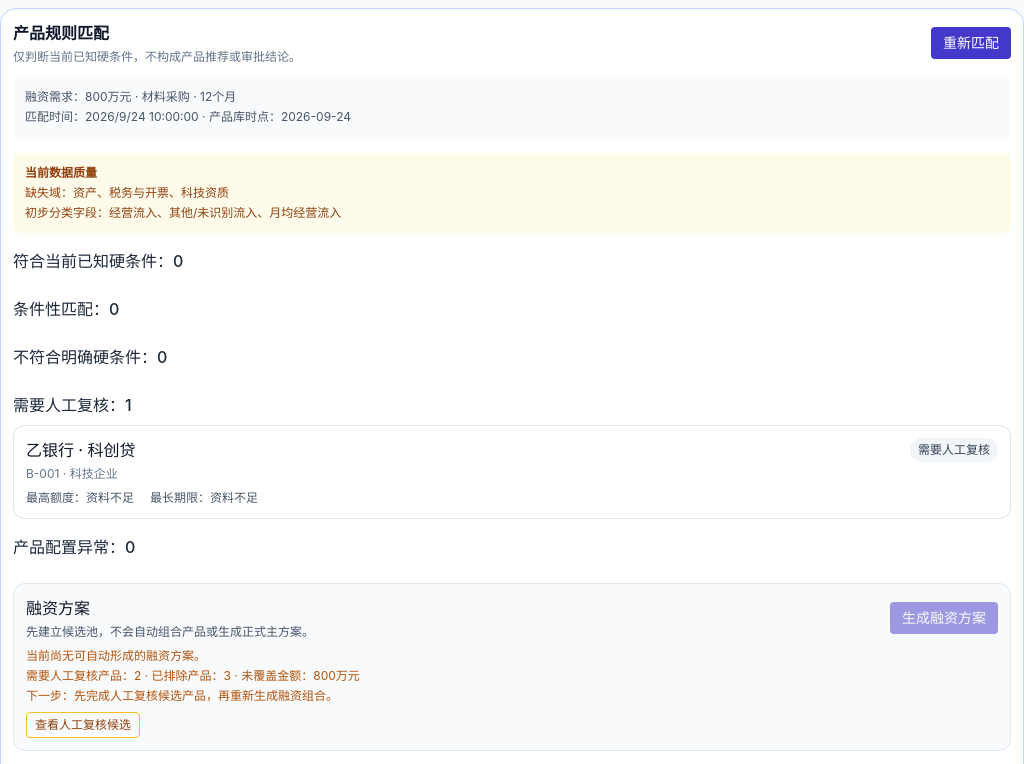
Test: ProductMatchingPanel › shows manual review candidates and records an explicit conditional override
The width and height of the screenshot is (1024, 764).
Click the button "查看人工复核候选" at [83, 725], box [26,712,140,738]
(page scrolled)
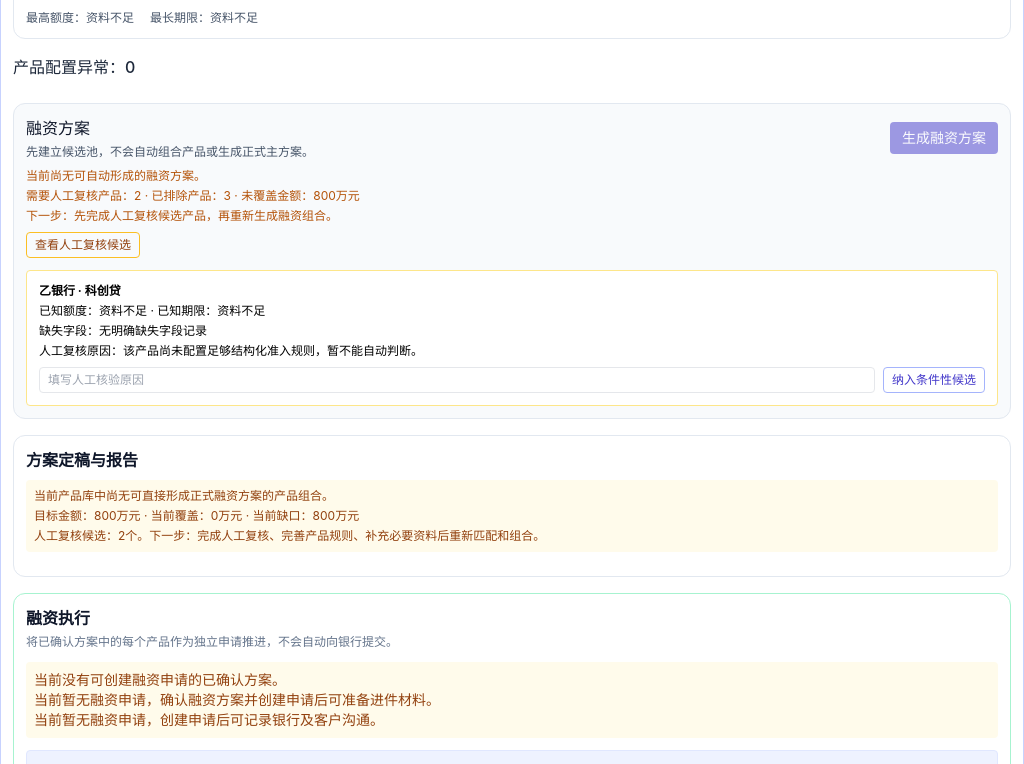
Type "已核验额度与期限边界" into the field named "科创贷人工纳入原因" at [457, 380], box [39,367,875,393]
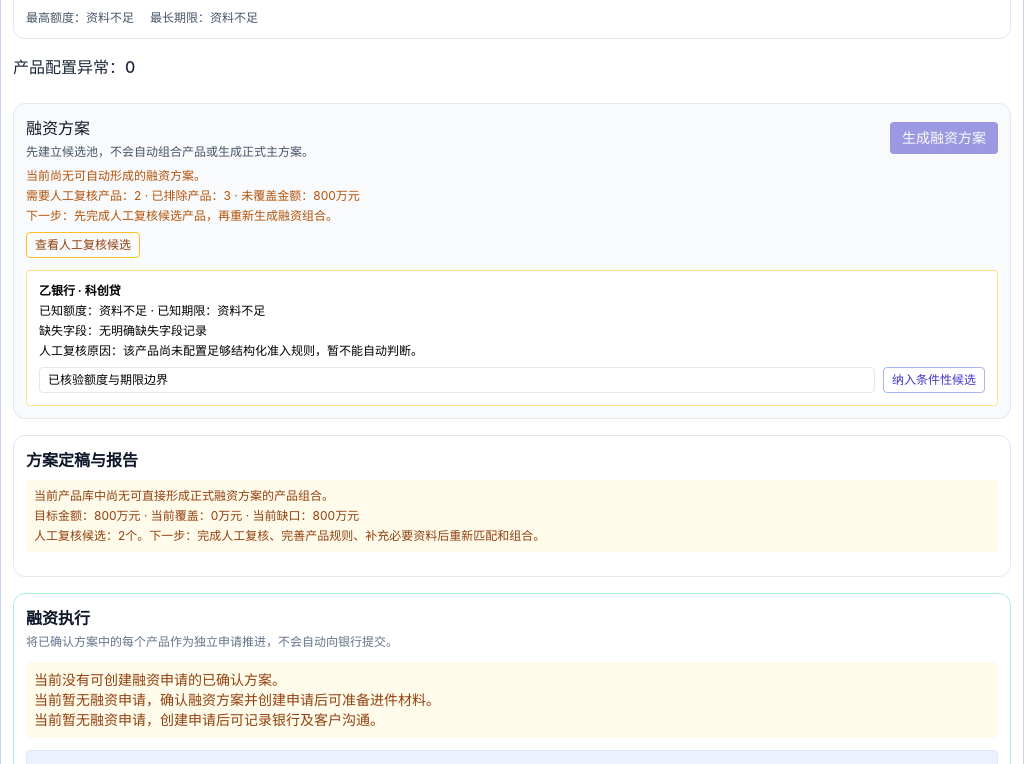
Click the button "纳入条件性候选" at [934, 380], box [883,367,985,393]
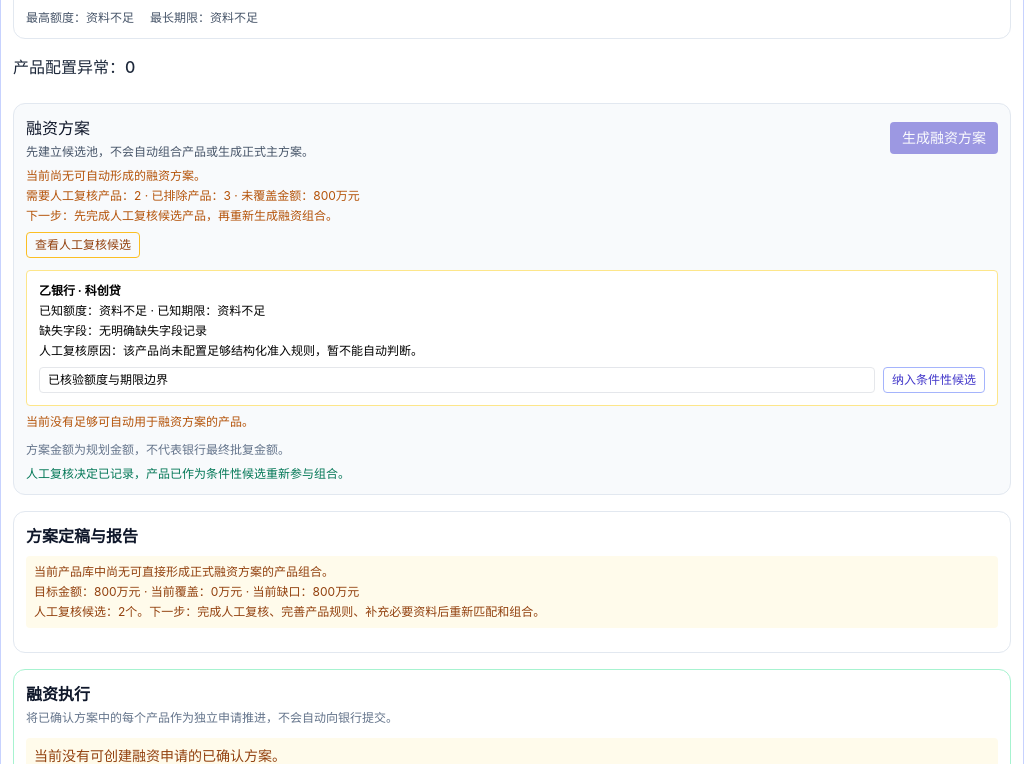
expect the text "人工复核决定已记录，产品已作为条件性候选重新参与组合。" is shown: met, box [26,466,350,481]
